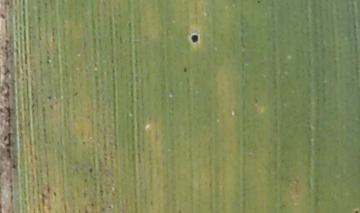tarspot: (189, 33, 200, 44), (183, 65, 188, 74), (88, 167, 93, 174), (90, 201, 95, 208), (99, 190, 104, 196), (47, 96, 53, 101)
